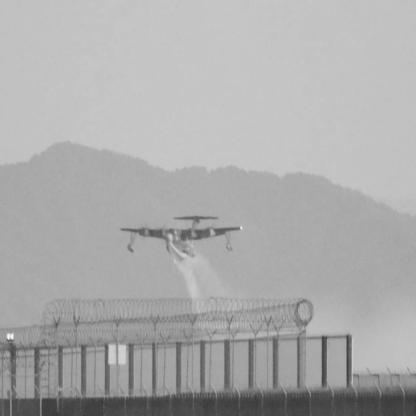US2: (121, 216, 243, 265)
